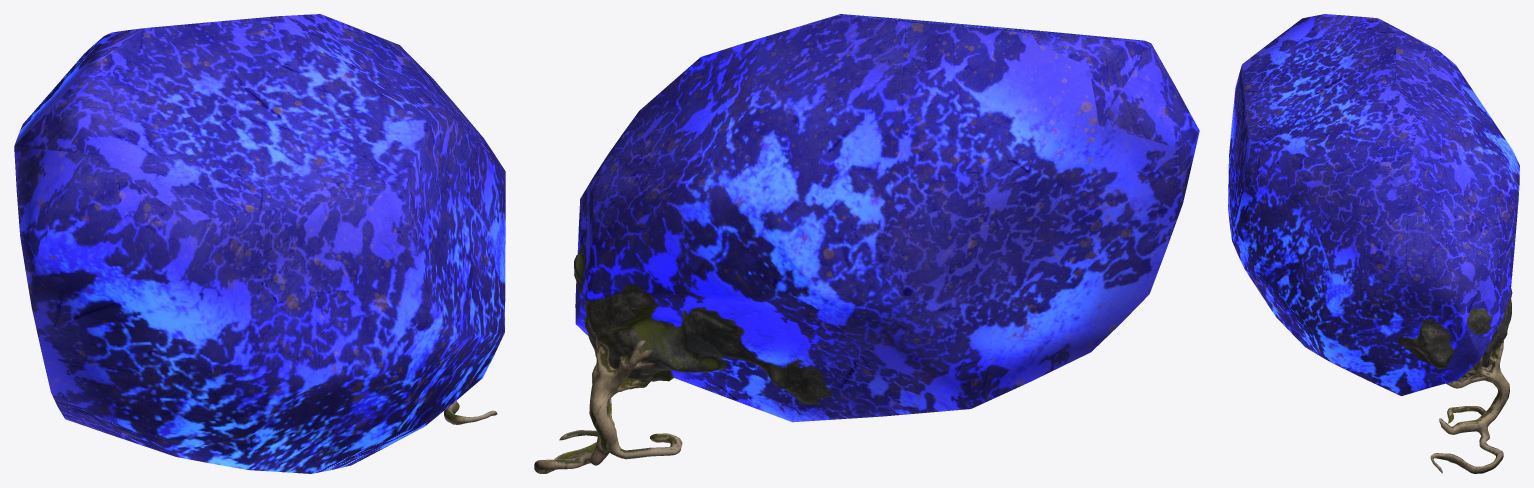
File: crystalAsteroidHigh.fbx
3 renders of one model, left to right at view 1: azimuth 30°, elevation 25°; view 2: azimuth 150°, elevation 25°; view 3: azimuth 270°, elevation 25°, orthographic. The views are drawn at different scales.
Visible parts, largest first — view 1: lod3:polySurface1; view 2: lod3:polySurface1; view 3: lod3:polySurface1.
Boxes of the visible parts, x1,y1,x2,y2 form: lod3:polySurface1: (14,14,505,473); lod3:polySurface1: (534,14,1199,473); lod3:polySurface1: (1228,14,1519,473).
Bounding box in the file's own units: 54.8 × 47.59 × 38.54.
